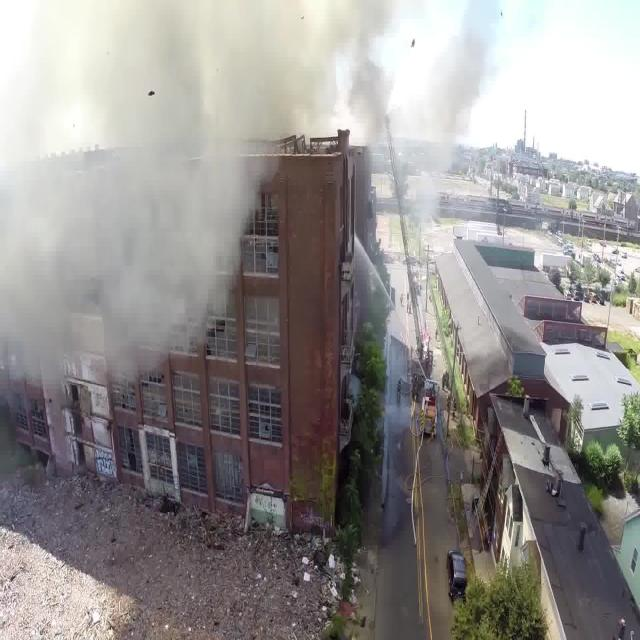Smoke: (0, 0, 495, 391)
